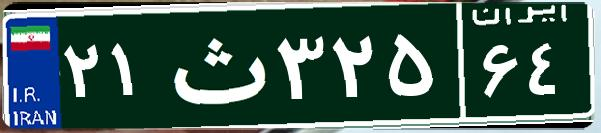1: (110, 28, 158, 105)
2: (330, 28, 385, 110), (57, 26, 110, 107)
3: (273, 28, 330, 110)
4: (525, 38, 570, 115)
5: (385, 28, 445, 110)
6: (475, 38, 525, 113)
ث: (158, 15, 273, 115)
